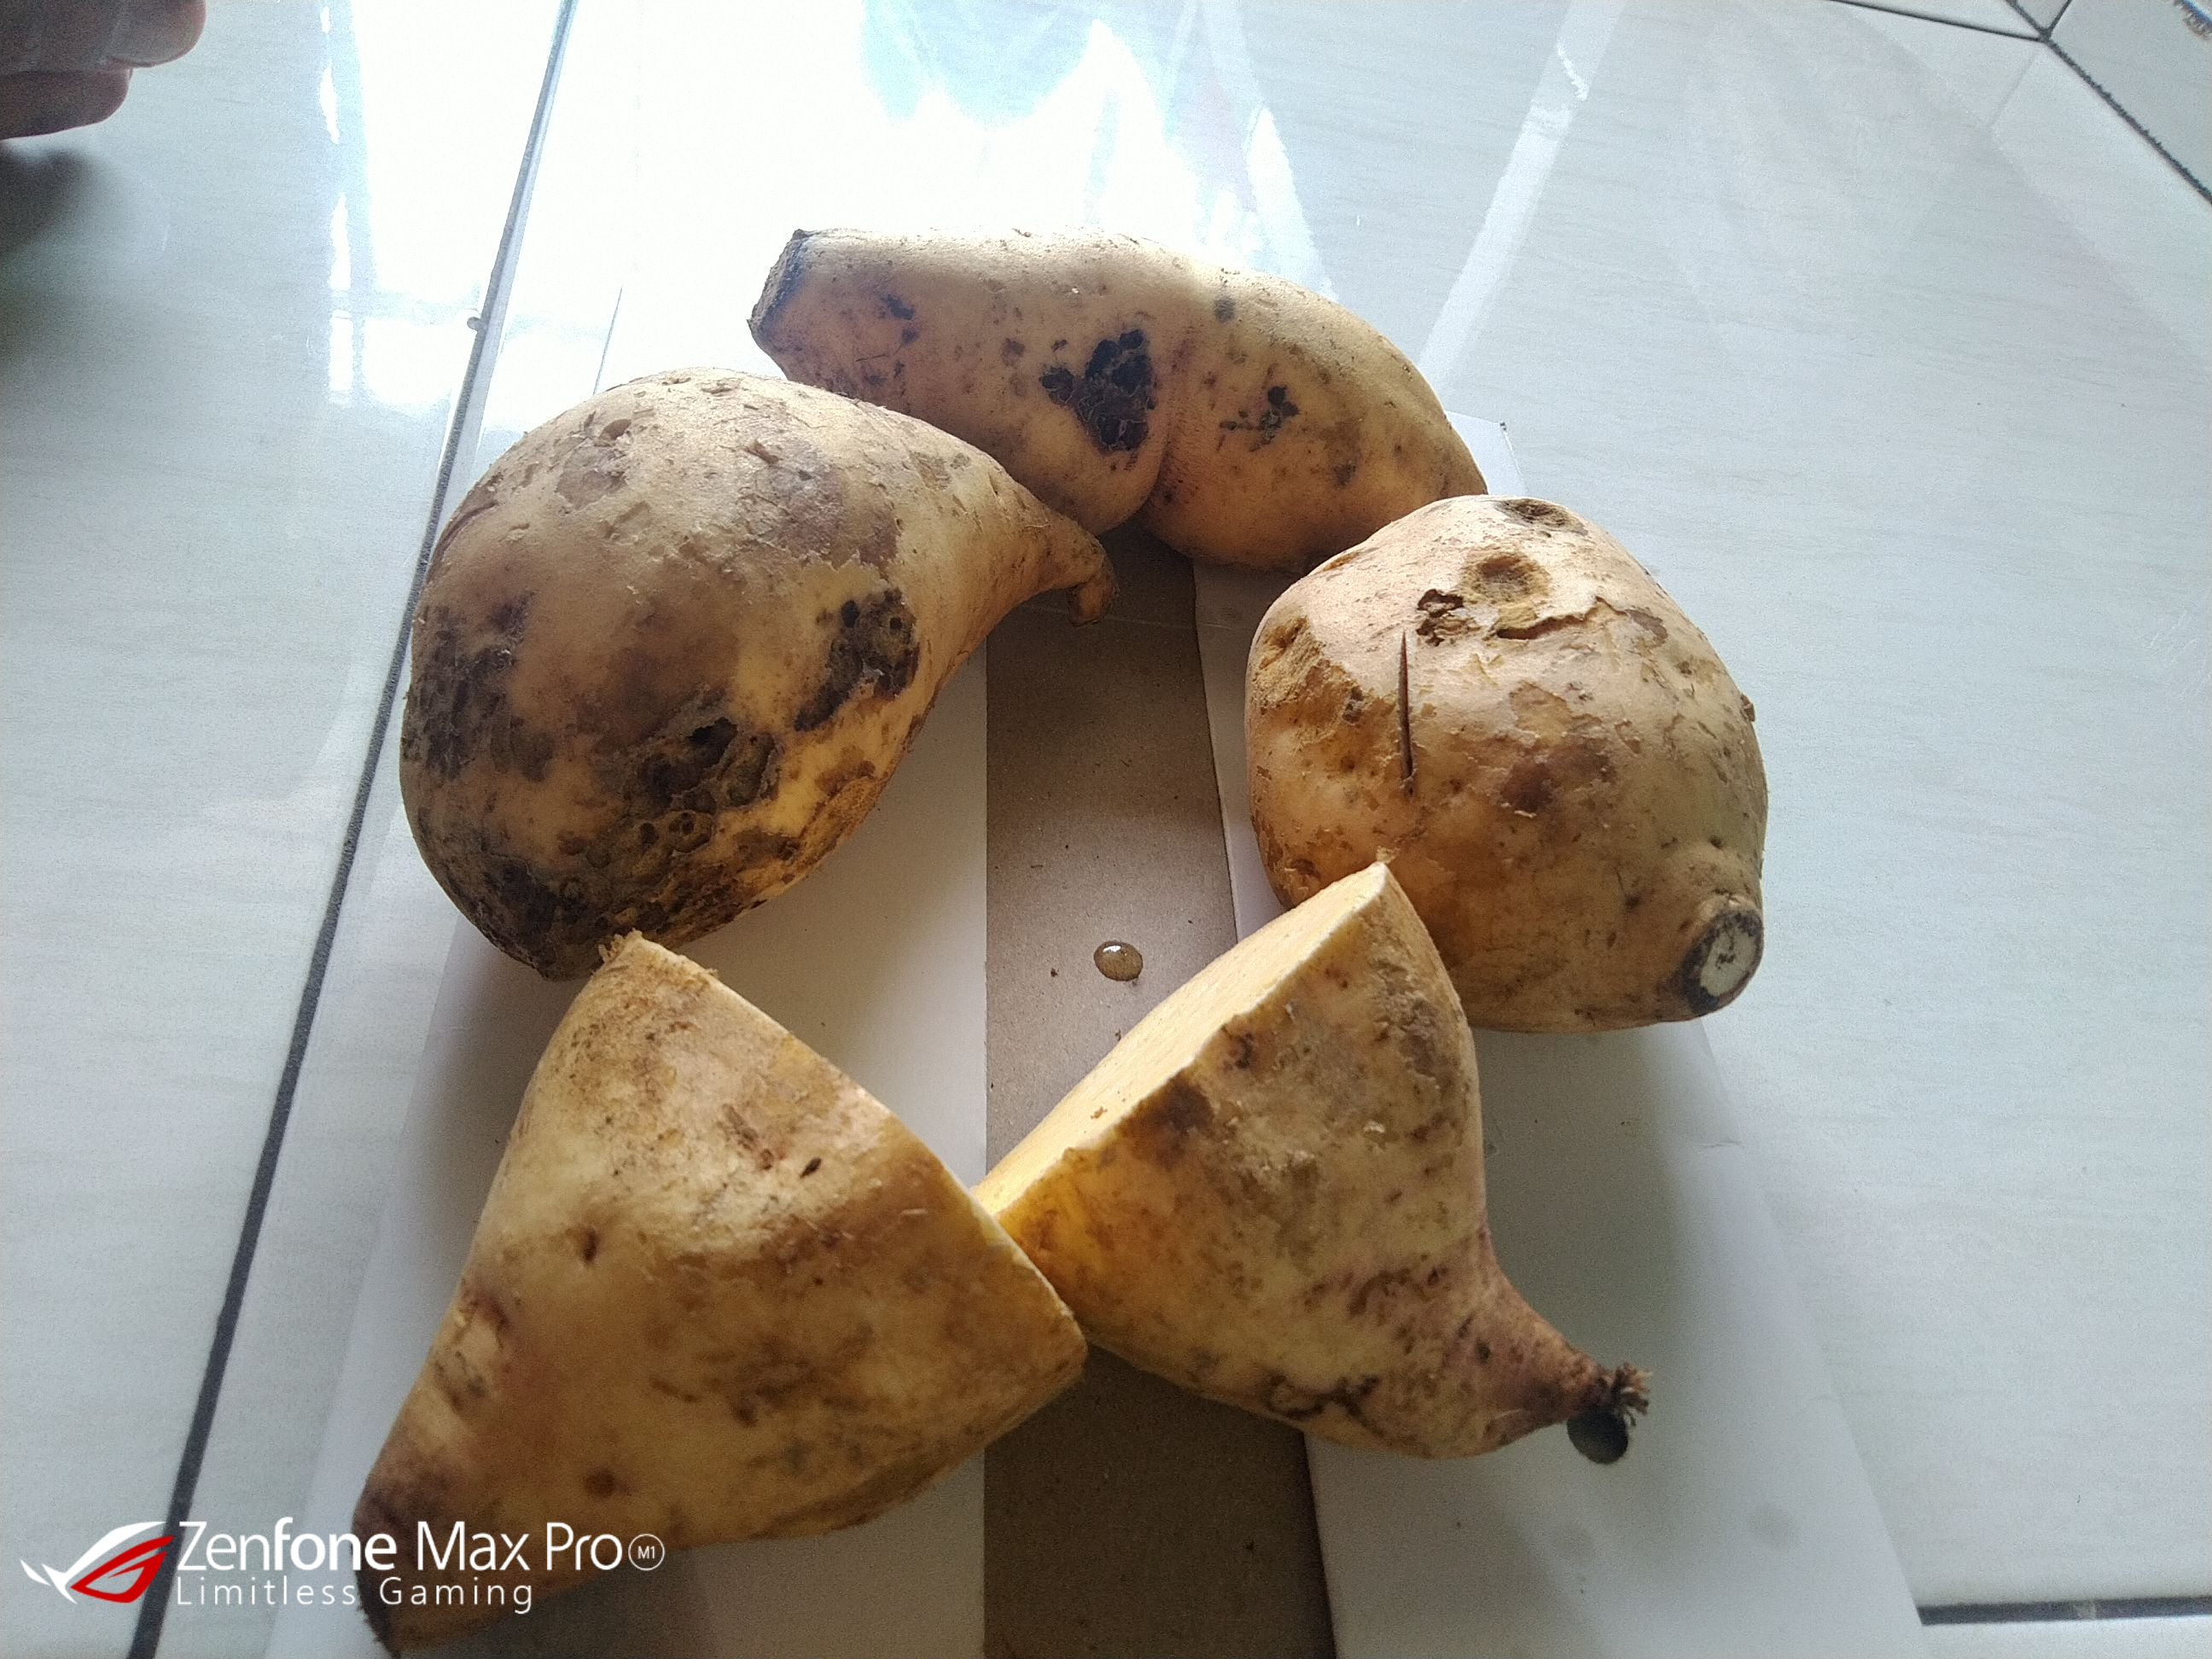ubi kuning: (296, 934, 1118, 1624), (387, 355, 1130, 981), (953, 847, 1676, 1473), (1224, 484, 1791, 1065), (754, 207, 1501, 552)
